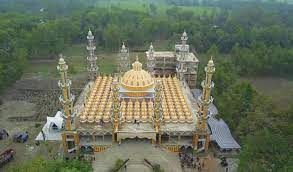Mosque: (54, 26, 216, 145)
